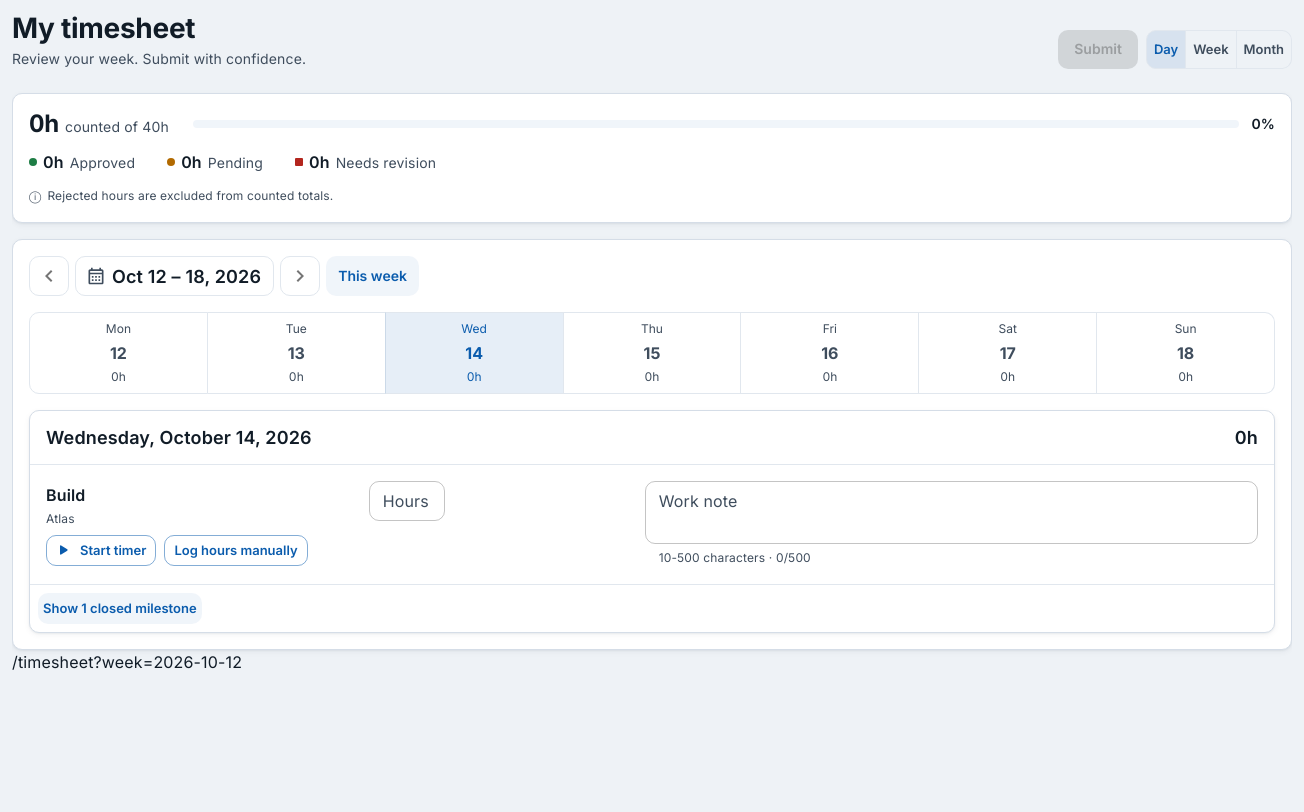
it: Timesheet day view › a completed milestone is hidden behind "Show 1 closed milestone" and has no Start button
Expected: the button with aria-label "Start timer on Build" is shown, top-left (46, 535), bottom-right (156, 566)
Step 1. Click the button "Show 1 closed milestone" → (120, 608), box top-left (38, 593), bottom-right (202, 624)
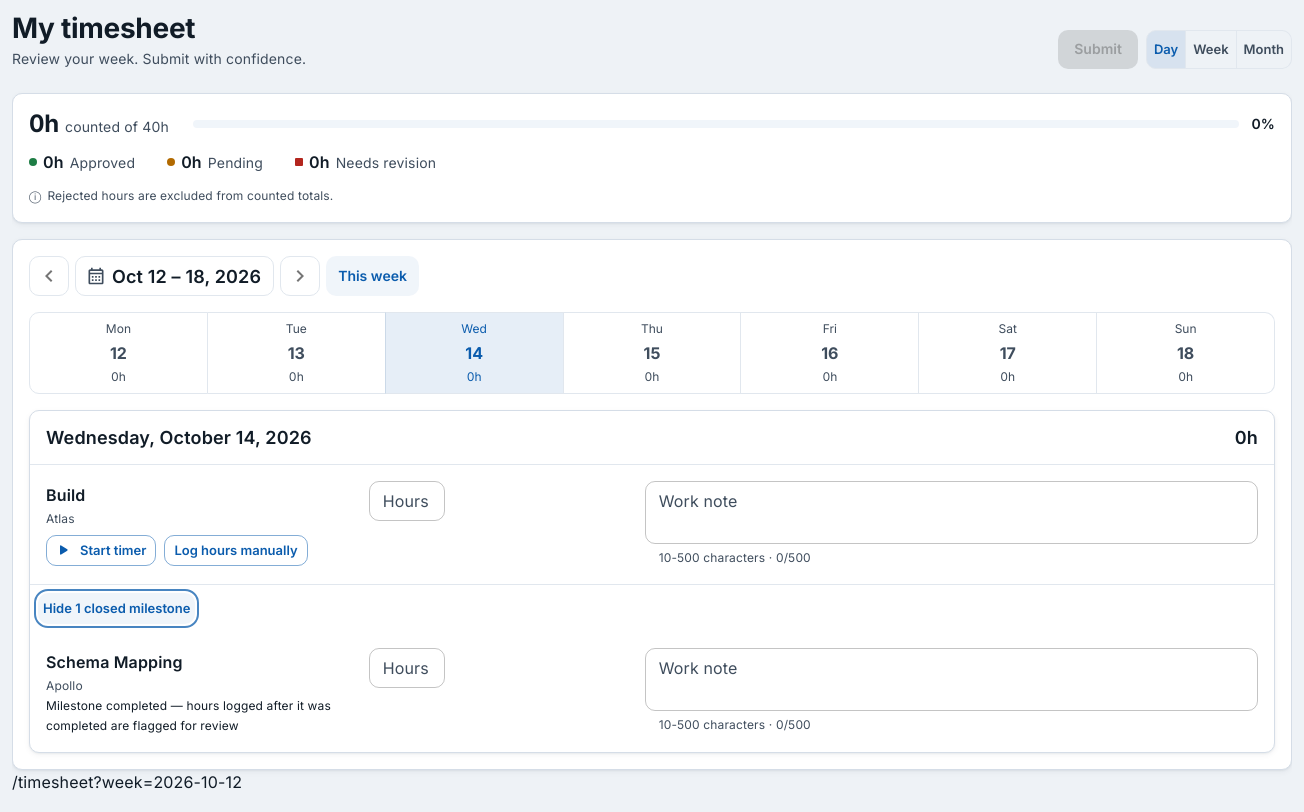
Expected: the field named "Schema Mapping, Wed Oct 14" is enabled, top-left (369, 648), bottom-right (445, 688)
Expected: the text box named "Work note, Schema Mapping" is enabled, top-left (659, 656), bottom-right (1244, 702)
Expected: the text "Milestone completed" is shown, top-left (46, 698), bottom-right (331, 733)
